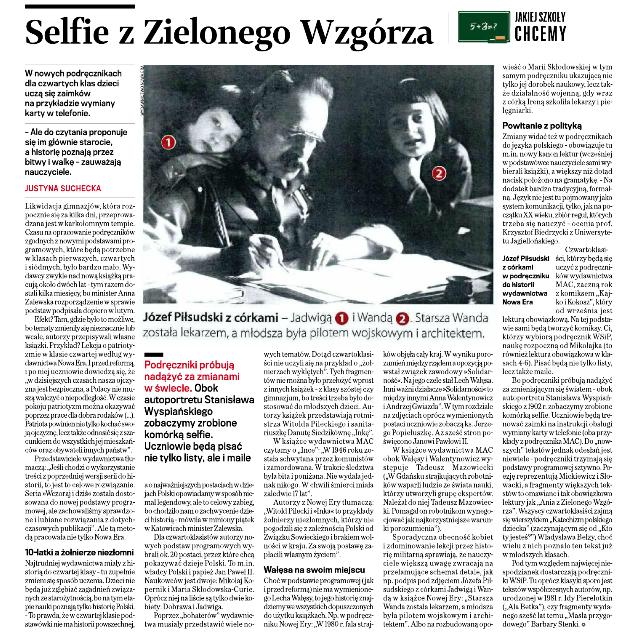author: (24, 182, 104, 196)
body: (500, 63, 618, 632), (23, 200, 138, 632), (380, 347, 496, 631), (262, 348, 376, 630), (142, 478, 258, 630), (142, 349, 258, 465)
caption: (141, 310, 493, 342)
image: (140, 63, 496, 307)
lead: (24, 66, 132, 178)
title: (24, 11, 440, 52)
